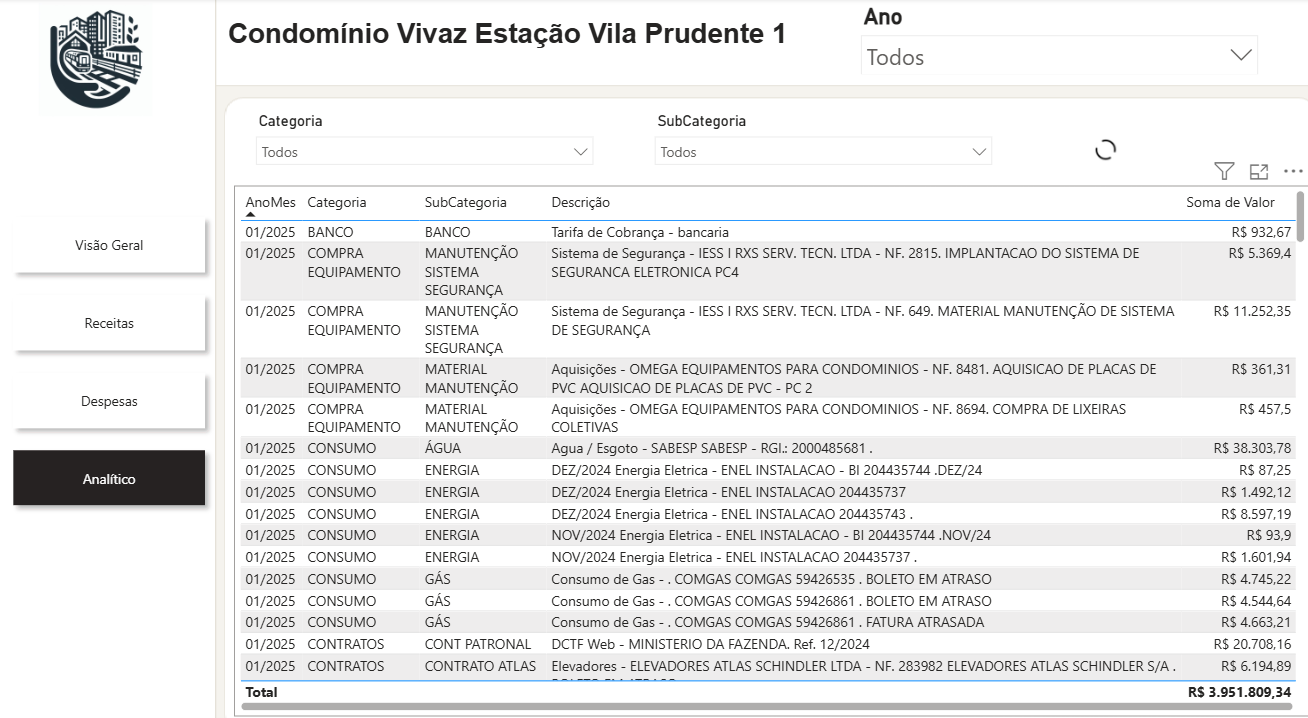

The page's visual inventory and layout, read from the dashboard file:
{"tool":"powerbi","page":{"name":"Analítico","canvas":[1280,720],"ordinal":3},"visuals":[{"type":"image","box":[0,0,195.4,119.4],"z":0},{"type":"textbox","box":[220.7,13.9,579.6,46.5],"z":1000},{"type":"slicer","fields":{"Values":["dCalendario.Ano","dCalendario.AnoMes"]},"box":[826.7,0,404,73.6],"z":2000},{"type":"pageNavigator","box":[9.3,202.1,203.3,297.4],"z":3000},{"type":"tableEx","fields":{"Values":["dCalendario.AnoMes","dCod_Categ.Categoria","dCod_SubCat.SubCategoria","fDespesas.Descrição","Sum(fDespesas.Valor)"]},"box":[231.1,181.2,1038.4,512.2],"z":4000},{"type":"slicer","fields":{"Values":["dCod_Categ.Categoria"]},"box":[242.8,104.5,346.1,59.2],"z":5000},{"type":"slicer","fields":{"Values":["dCod_SubCat.SubCategoria"]},"box":[627.2,104.5,346.1,59.2],"z":6000},{"type":"actionButton","box":[1056.3,128,32.3,36.3],"z":7000}]}

Visuals, with their boxes on the page's 1280x720 design canvas (x1, y1, x2, y2). These are canvas units, not pixel positions in the 1308x718 screenshot, which may show the page scaled, cropped or inside an application window:
image: BBox(0, 0, 195, 119)
textbox: BBox(221, 14, 800, 60)
slicer - dCalendario.Ano x dCalendario.AnoMes: BBox(827, 0, 1231, 74)
pageNavigator: BBox(9, 202, 213, 500)
tableEx - dCalendario.AnoMes x dCod_Categ.Categoria: BBox(231, 181, 1270, 693)
slicer - dCod_Categ.Categoria: BBox(243, 104, 589, 164)
slicer - dCod_SubCat.SubCategoria: BBox(627, 104, 973, 164)
actionButton: BBox(1056, 128, 1089, 164)
